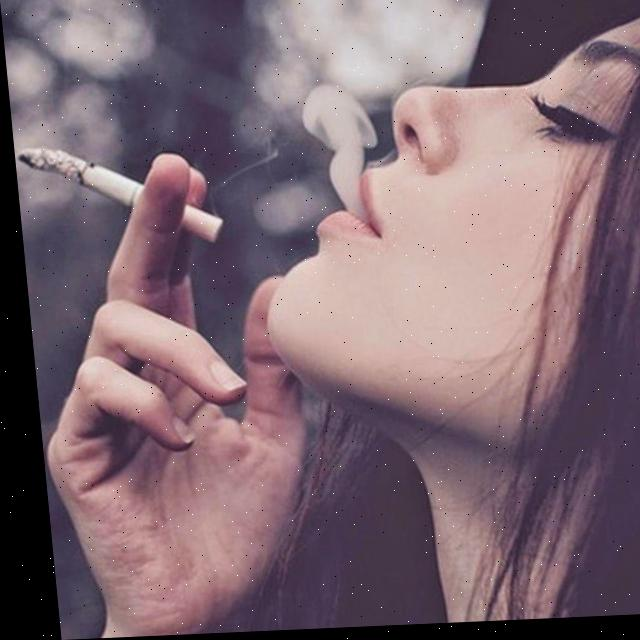cigarette: (12, 142, 223, 252)
